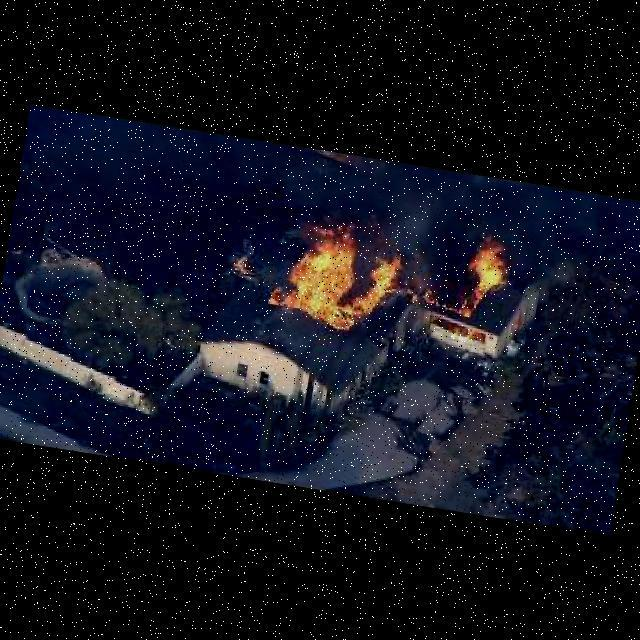Fire: (266, 205, 369, 331), (456, 227, 514, 323), (339, 248, 403, 322), (235, 252, 252, 274), (425, 287, 441, 305), (442, 303, 456, 309), (412, 292, 419, 303)
